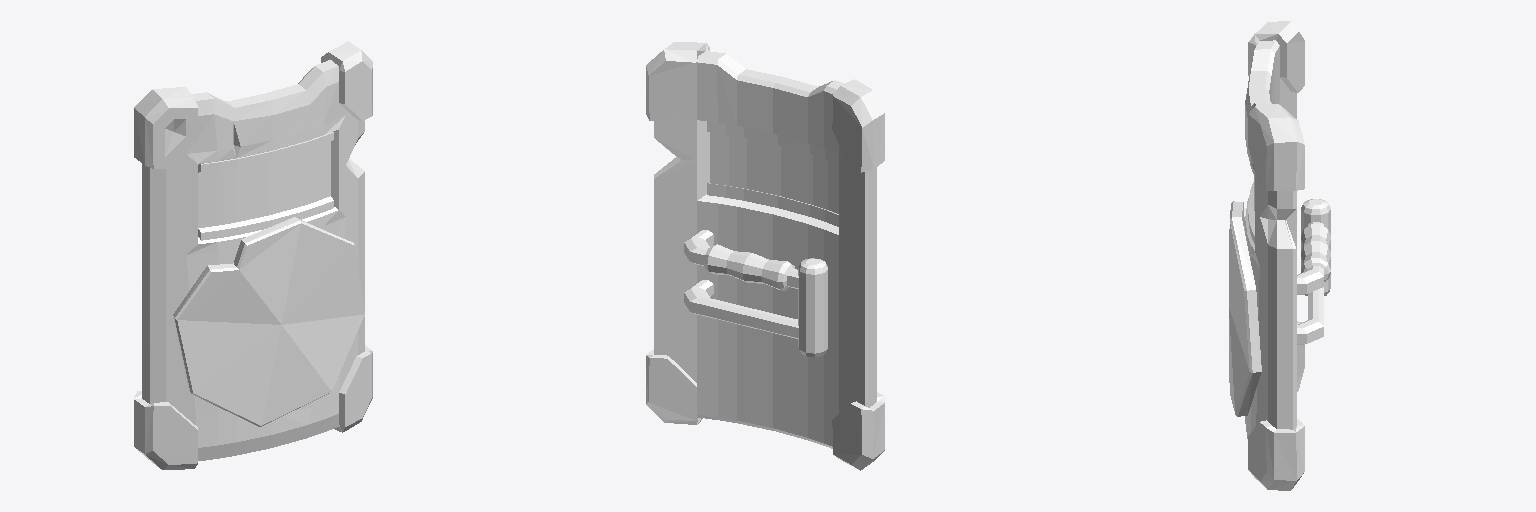
Rendered from ballistic_shield_B.obj.
The picture shows the model from 3 angles: view 1: azimuth 30°, elevation 25°; view 2: azimuth 150°, elevation 25°; view 3: azimuth 270°, elevation 25°; orthographic projection.
Parts seen in each view (by area): view 1: ballistic_shield_B_Plane.088; view 2: ballistic_shield_B_Plane.088; view 3: ballistic_shield_B_Plane.088.
Boxes of the visible parts, box(x1,y1,x2,y2) form: ballistic_shield_B_Plane.088: box(134, 41, 372, 469); ballistic_shield_B_Plane.088: box(646, 42, 884, 470); ballistic_shield_B_Plane.088: box(1229, 21, 1330, 490).
Size of the model in its own units: 0.8622 by 1.35 by 0.3351.